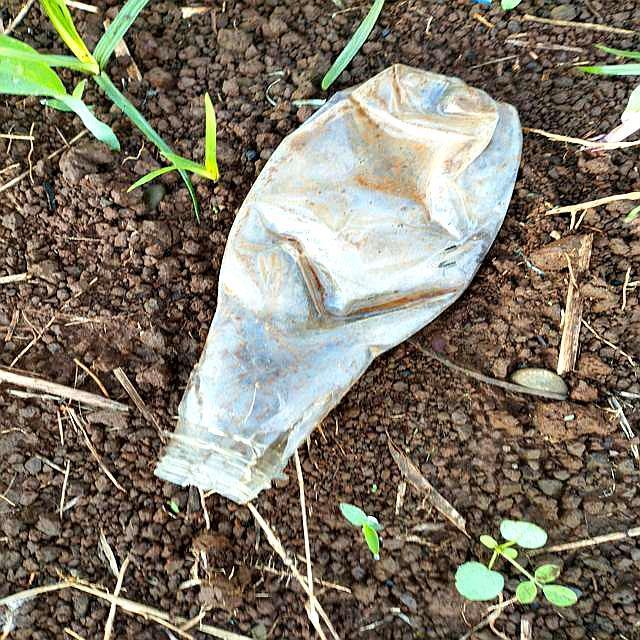Non-biodegradable: (85, 37, 563, 559)
